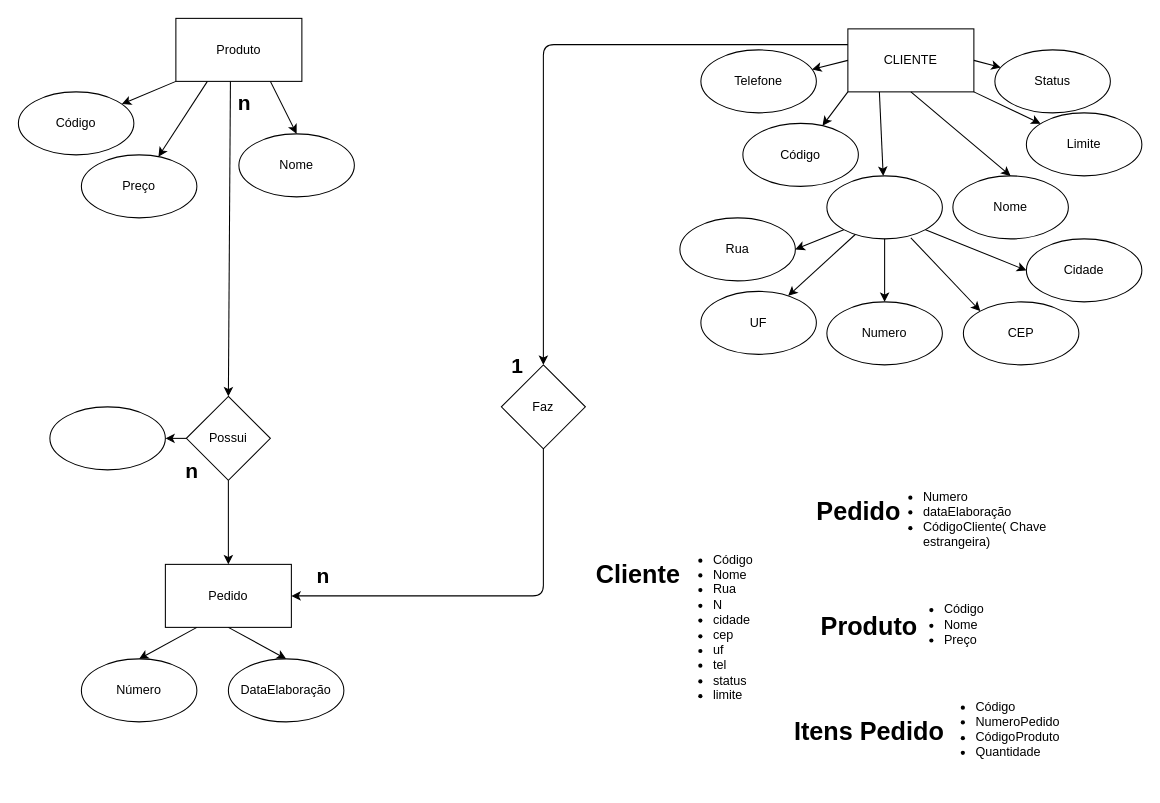
The diagram is 1160 pixels wide and 803 high, and some of its shapes have lost their labels. Here are the shapes that lost their labels. From the top down, the centre of each, then its label:
[884,207]: Endereço
[107,438]: Quantidade
